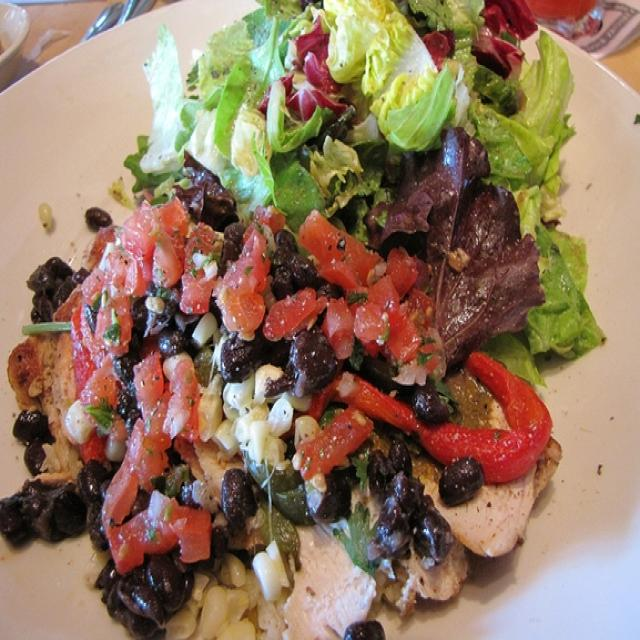鸡肉料理 含炸鸡: (31, 21, 619, 618)
